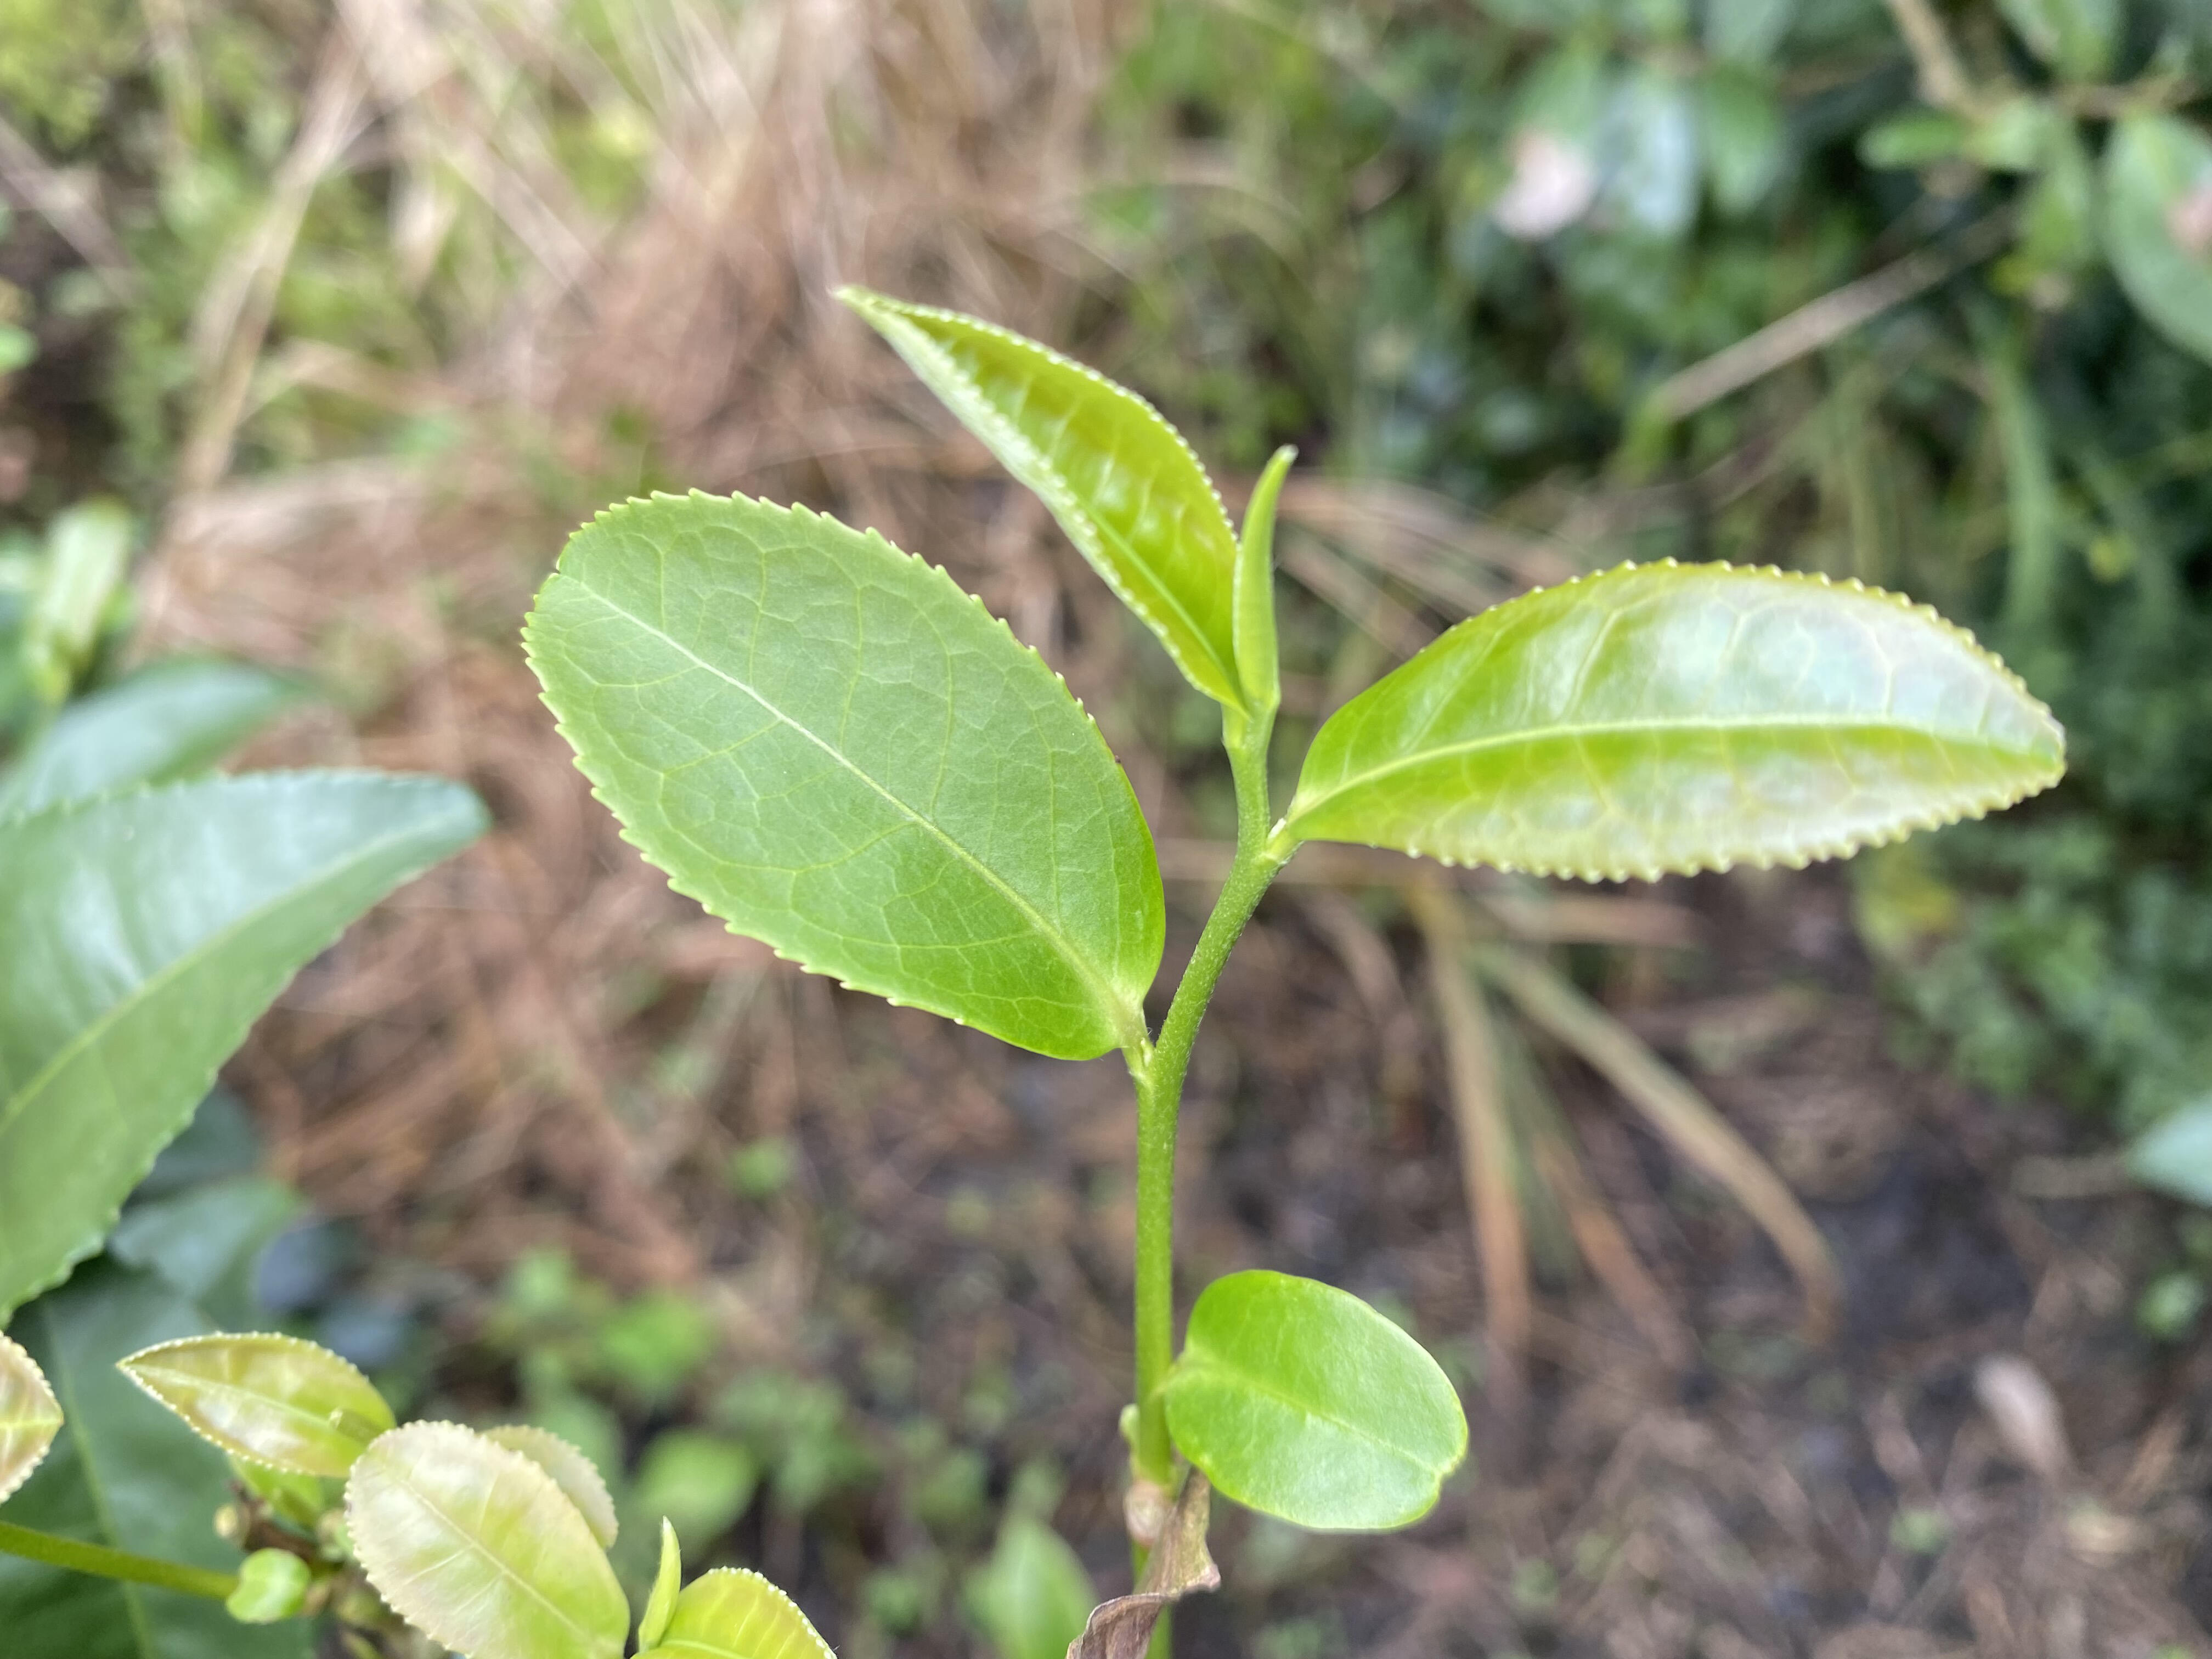healthy: (521, 490, 1167, 1066), (1292, 559, 2069, 887), (833, 282, 1240, 720), (1160, 1267, 1467, 1537), (341, 1419, 631, 1656), (117, 1328, 394, 1474)
